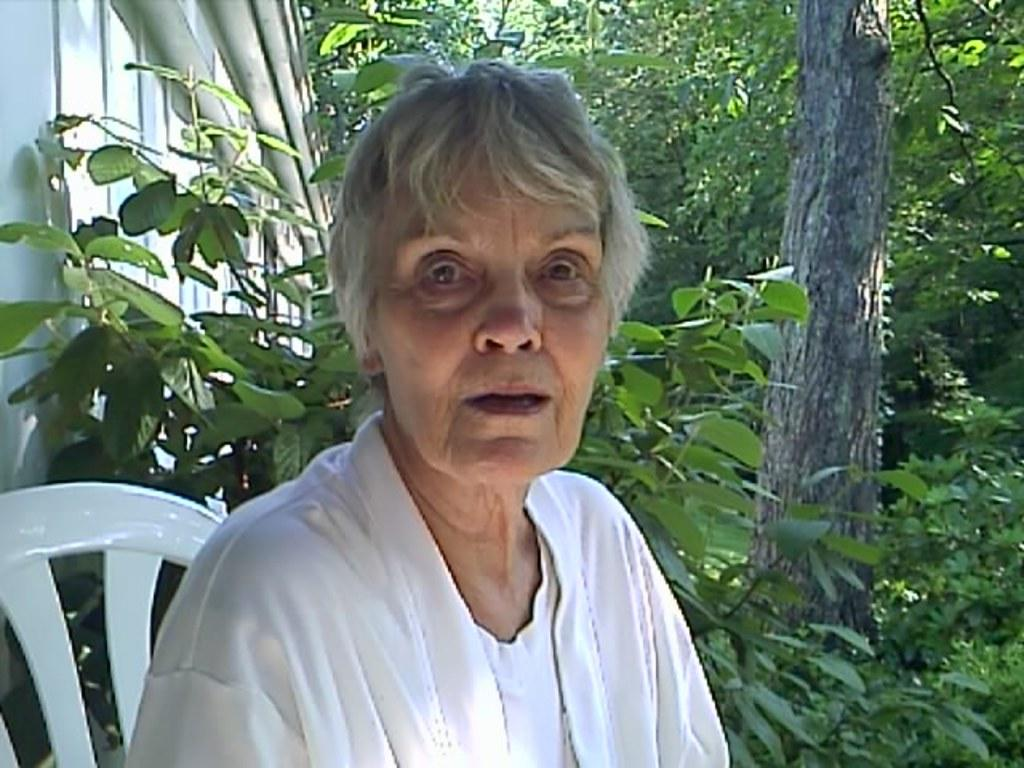Sem Máscara: (368, 138, 603, 484)
